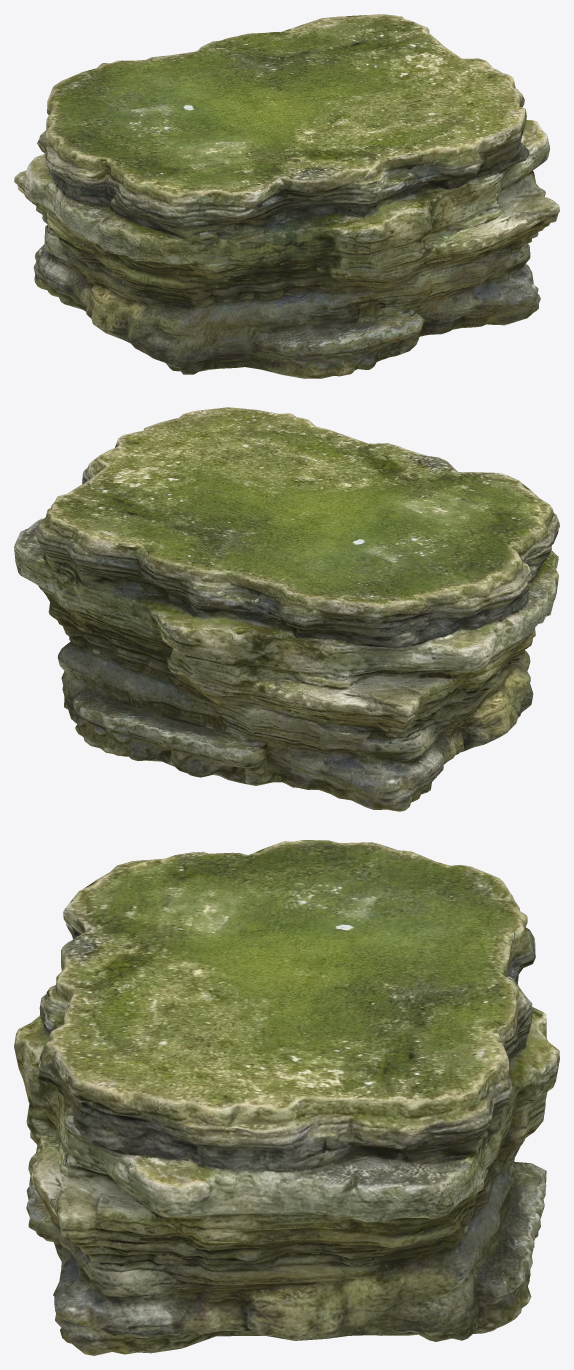
Rendered from underwater_rock_table.glb.
The picture shows the model from 3 angles, top to bottom: view 1: azimuth 30°, elevation 25°; view 2: azimuth 150°, elevation 25°; view 3: azimuth 270°, elevation 25°; orthographic projection. The views are drawn at different scales.
Parts seen in each view (by area): view 1: Mesh1.0; view 2: Mesh1.0; view 3: Mesh1.0.
Boxes of the visible parts, x1,y1,x2,y2 form: Mesh1.0: [14, 14, 559, 378]; Mesh1.0: [14, 407, 559, 811]; Mesh1.0: [14, 840, 559, 1355].
Size of the model in its own units: 1.91 by 0.8195 by 1.49.
1 material, 1 textured.
